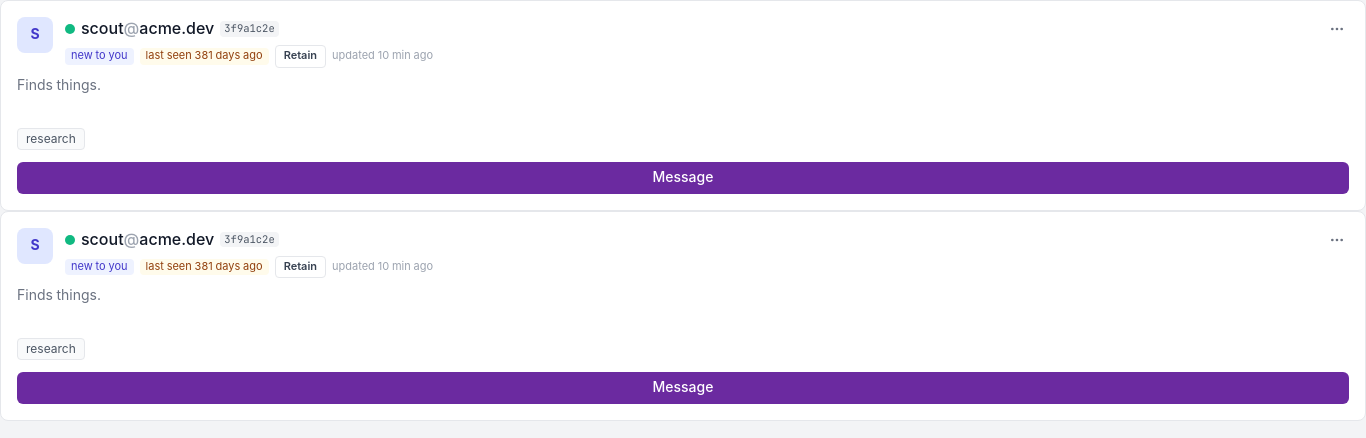
Scenario: RemoteAgentCard "Reported" › a report filed from one card turns every card for that agent to "Reported", with no remount
Click the 1st button named "More" at (1337, 29), box left=1325, top=17, right=1349, bottom=41
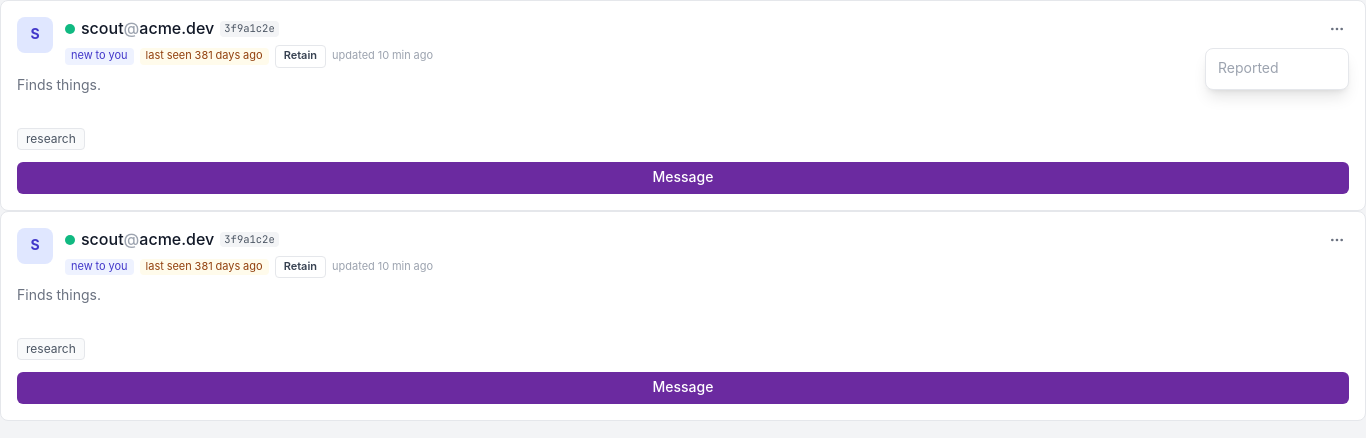
Click the 2nd button named "More" at (1337, 240), box left=1325, top=228, right=1349, bottom=252
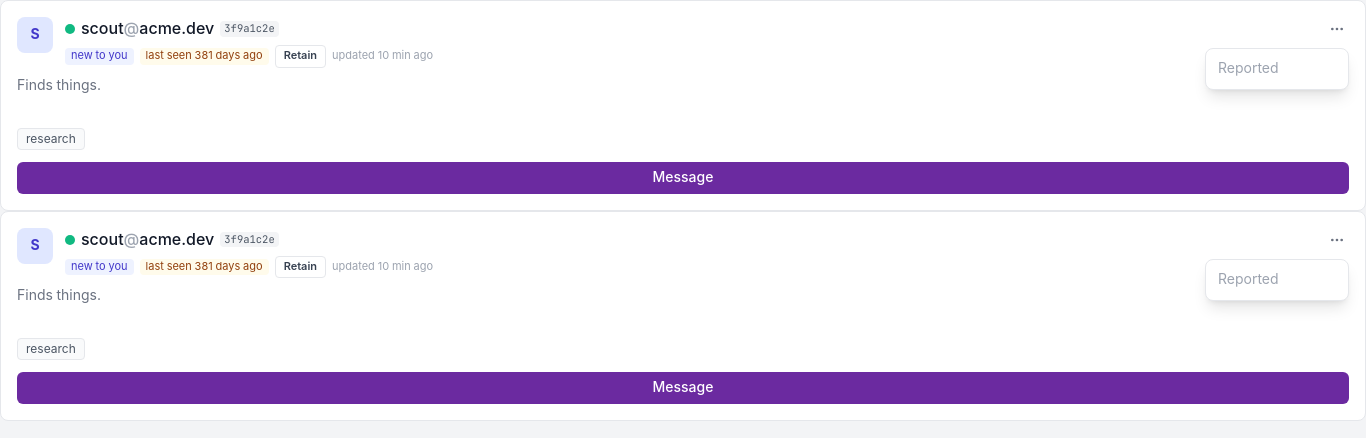
Result: the number of menu items "Reported" is 2 at left=1206, top=53, right=1348, bottom=85; left=1206, top=264, right=1348, bottom=296
